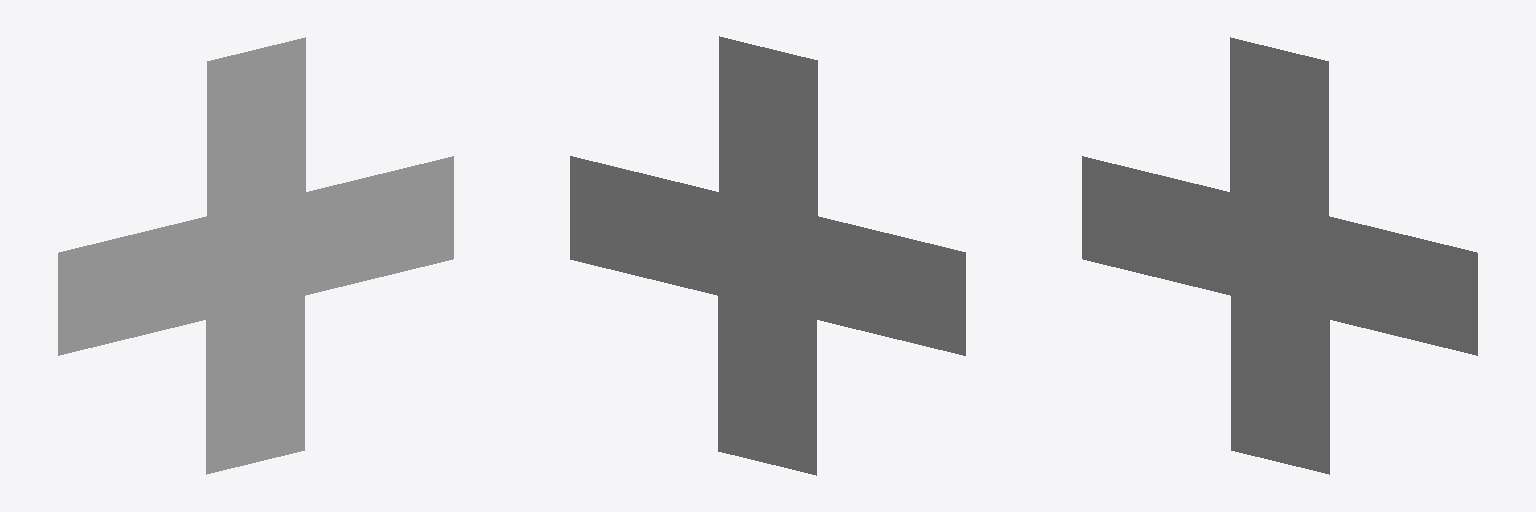
File: cursor.obj
3 renders of one model, left to right at view 1: azimuth 30°, elevation 25°; view 2: azimuth 150°, elevation 25°; view 3: azimuth 330°, elevation 25°, orthographic.
Visible parts, largest first — view 1: Plane; view 2: Plane; view 3: Plane.
Boxes of the visible parts, box(x1,y1,x2,y2) form: Plane: box(58, 37, 453, 474); Plane: box(570, 36, 965, 475); Plane: box(1082, 37, 1477, 474).
Bounding box in the file's own units: 2 × 2 × 0.0106.